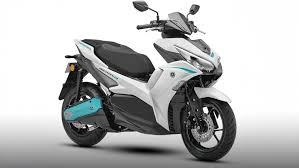motorcycle: (54, 0, 240, 167)
